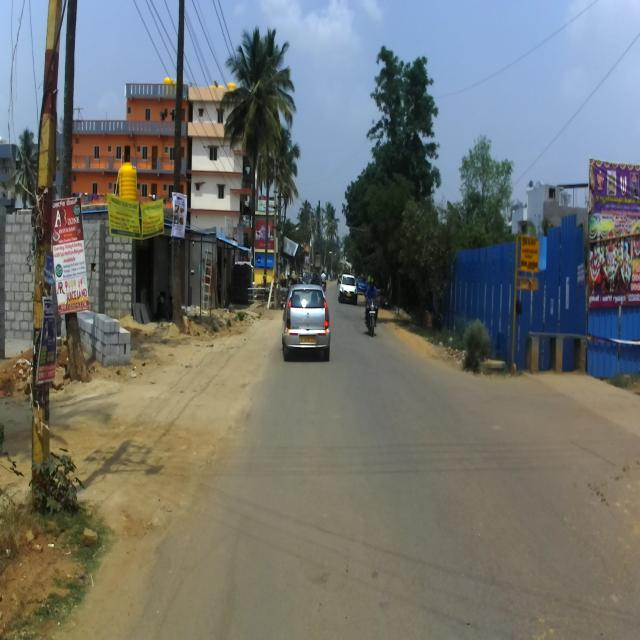car ahead at: (282, 281, 330, 360)
electric pole ahead at: (25, 0, 70, 515), (165, 0, 190, 340)
stones ahead at: (85, 313, 131, 364)
